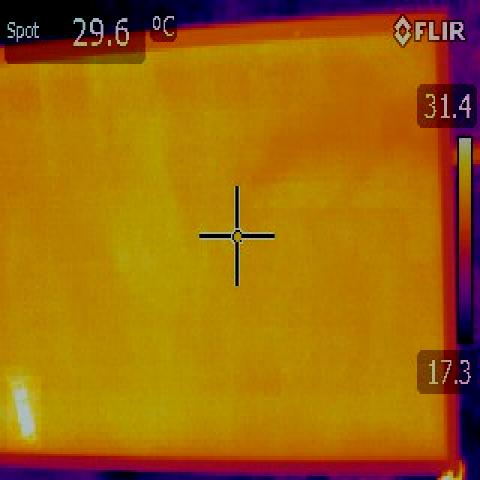fault: (7, 376, 41, 450)
